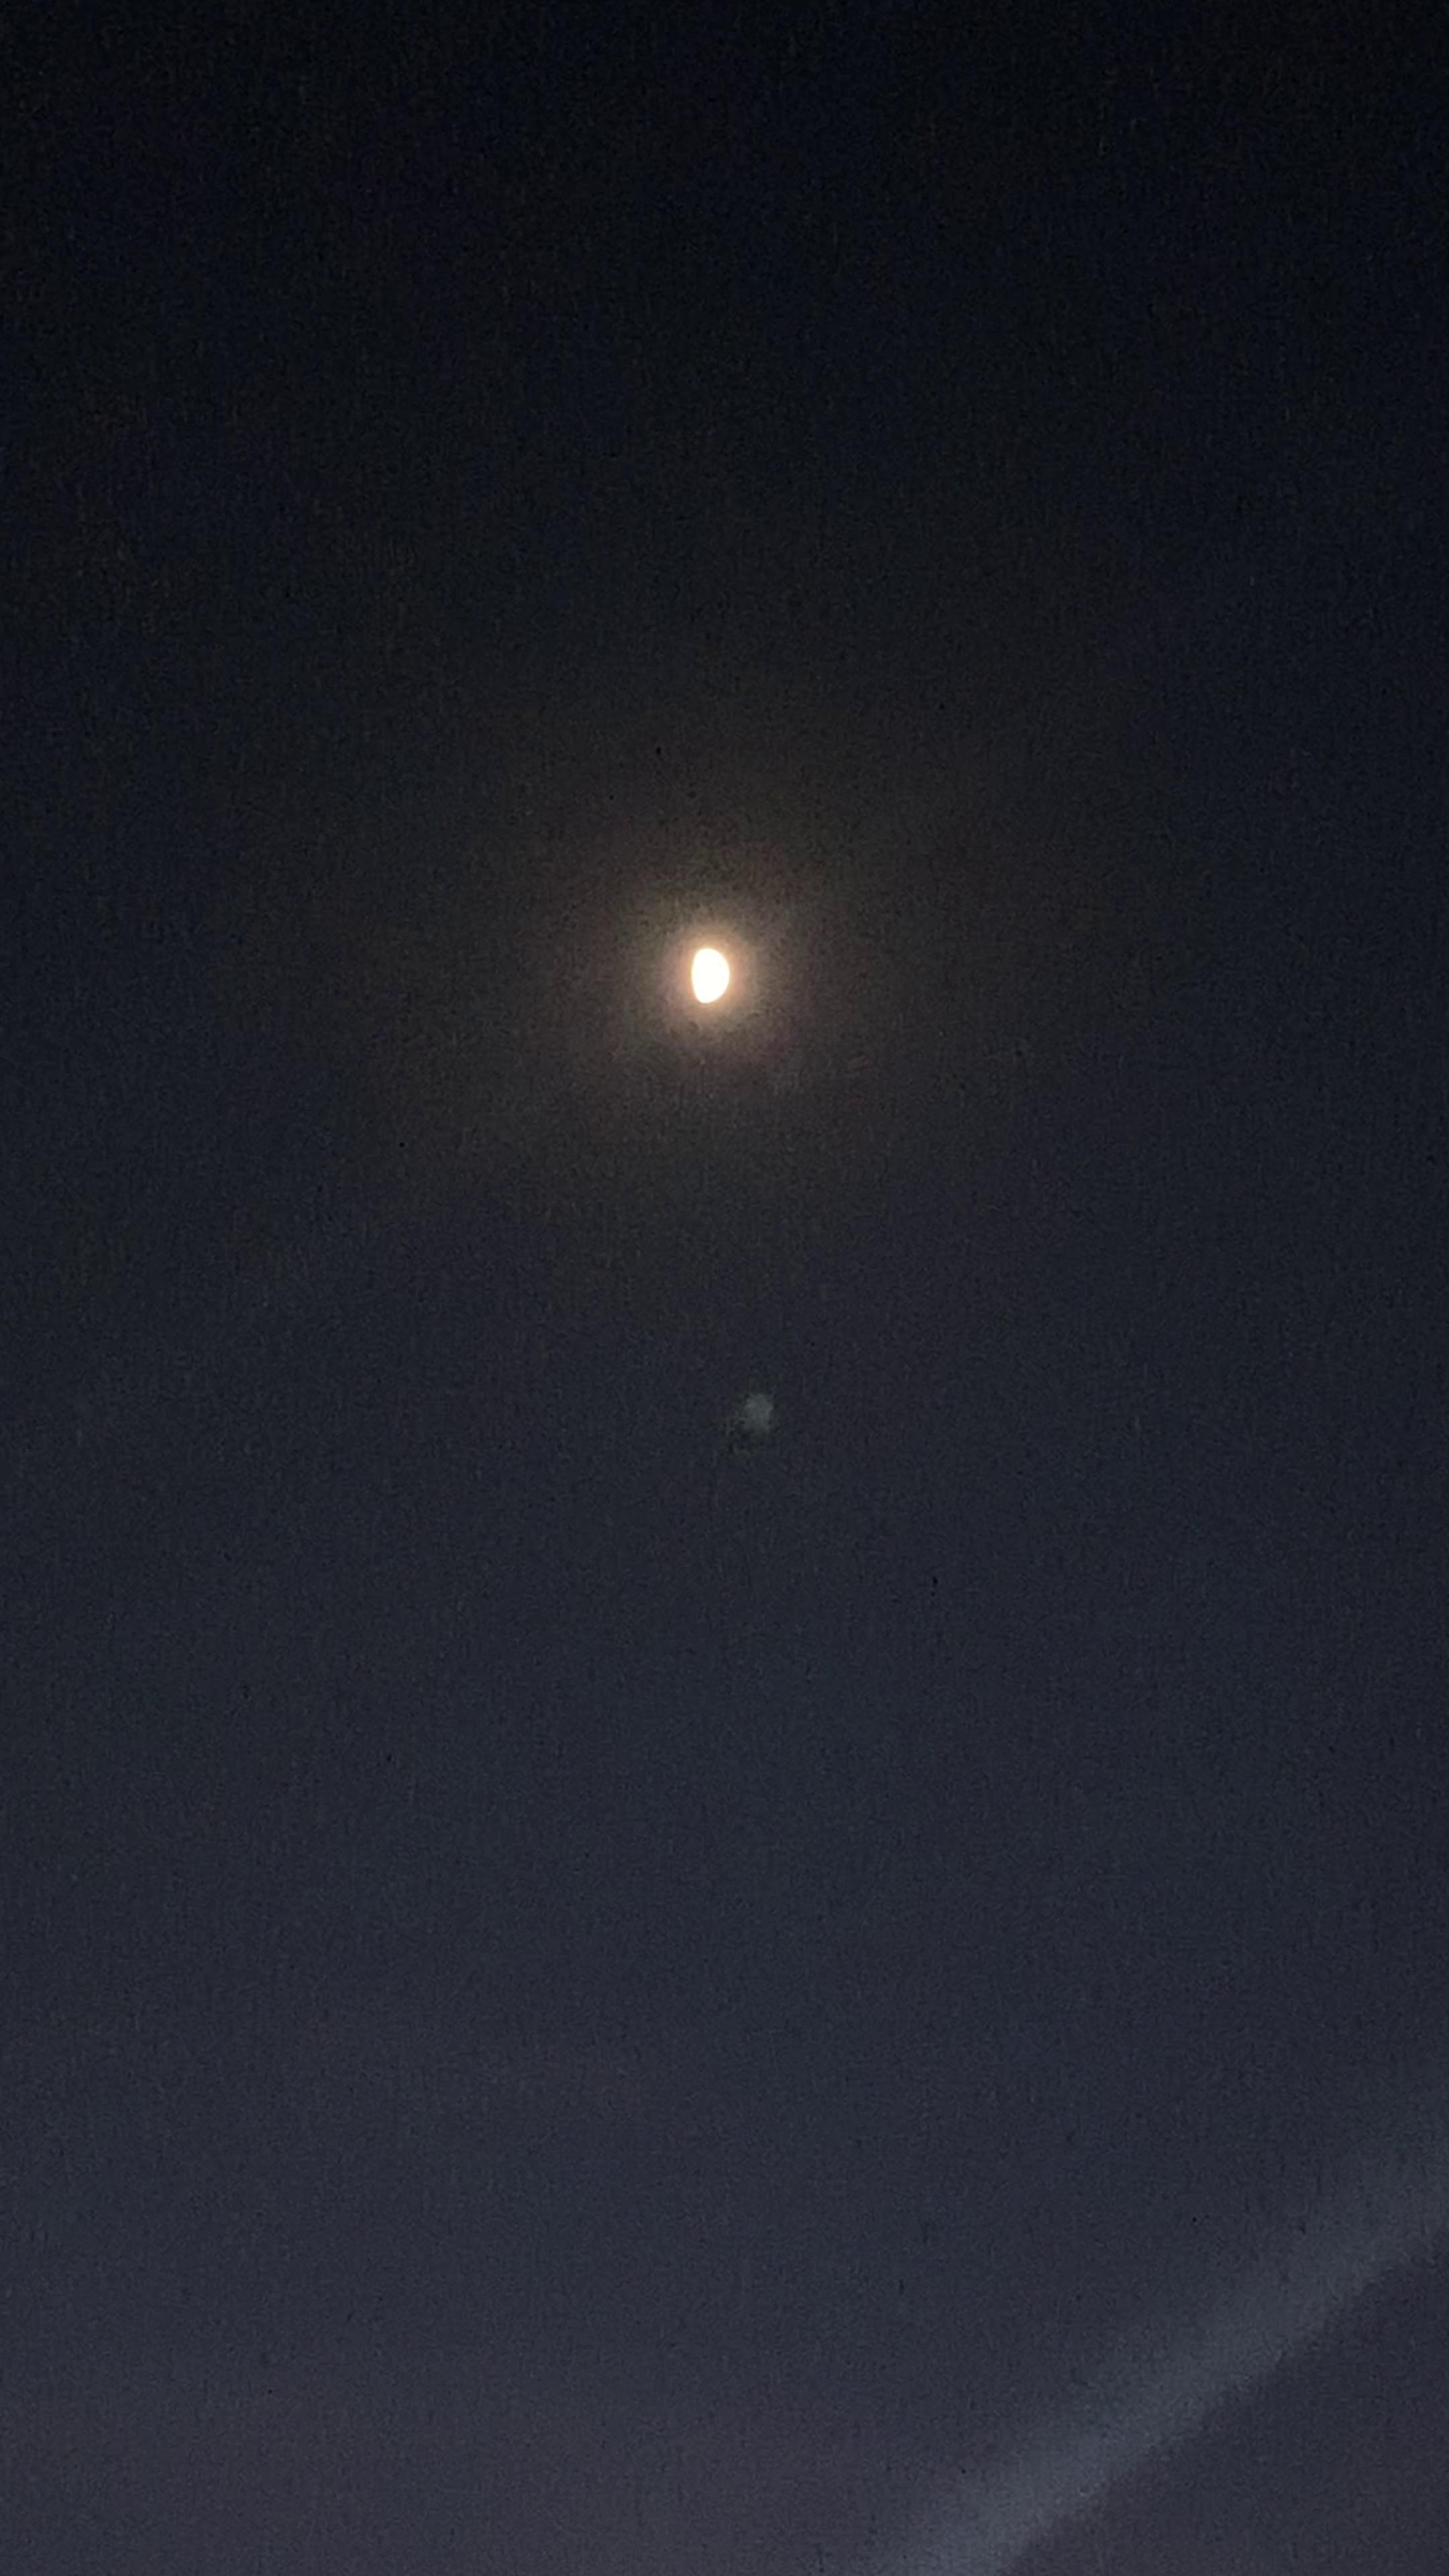moon: (665, 911, 766, 1030)
